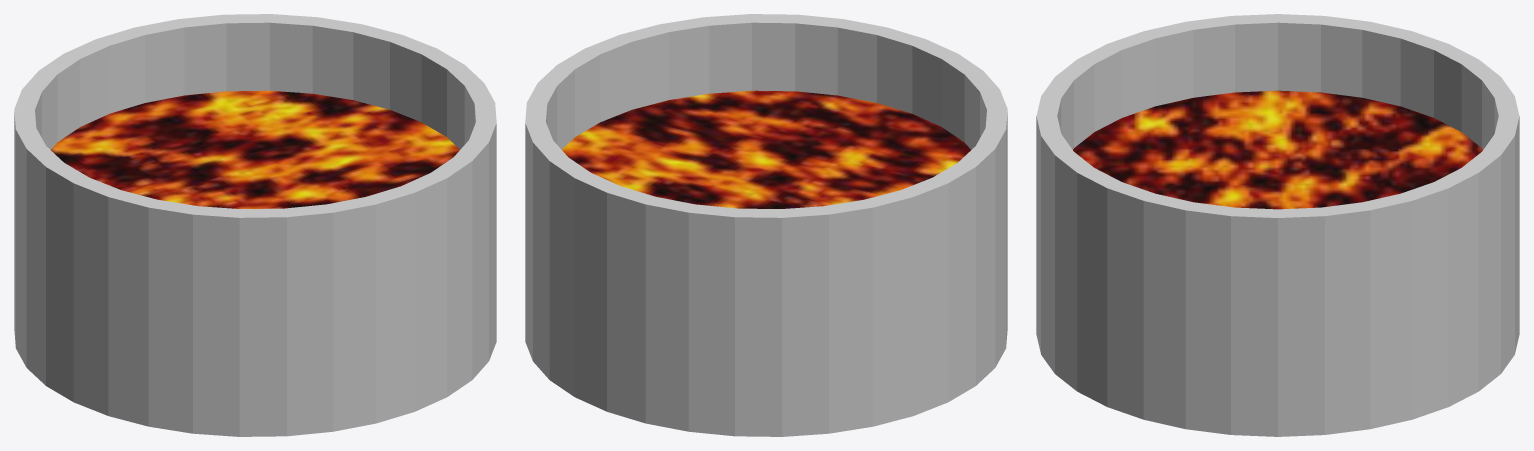
Rendered from Bucket.fbx.
The picture shows the model from 3 angles, left to right: view 1: azimuth 30°, elevation 25°; view 2: azimuth 150°, elevation 25°; view 3: azimuth 270°, elevation 25°; orthographic projection.
Visible parts, largest first — view 1: Cylinder; view 2: Cylinder; view 3: Cylinder.
Boxes of the visible parts, x1,y1,x2,y2 form: Cylinder: (14,14,496,436); Cylinder: (525,14,1007,436); Cylinder: (1036,14,1519,436).
Bounding box in the file's own units: 200 × 100 × 200.
2 materials, 1 textured.
